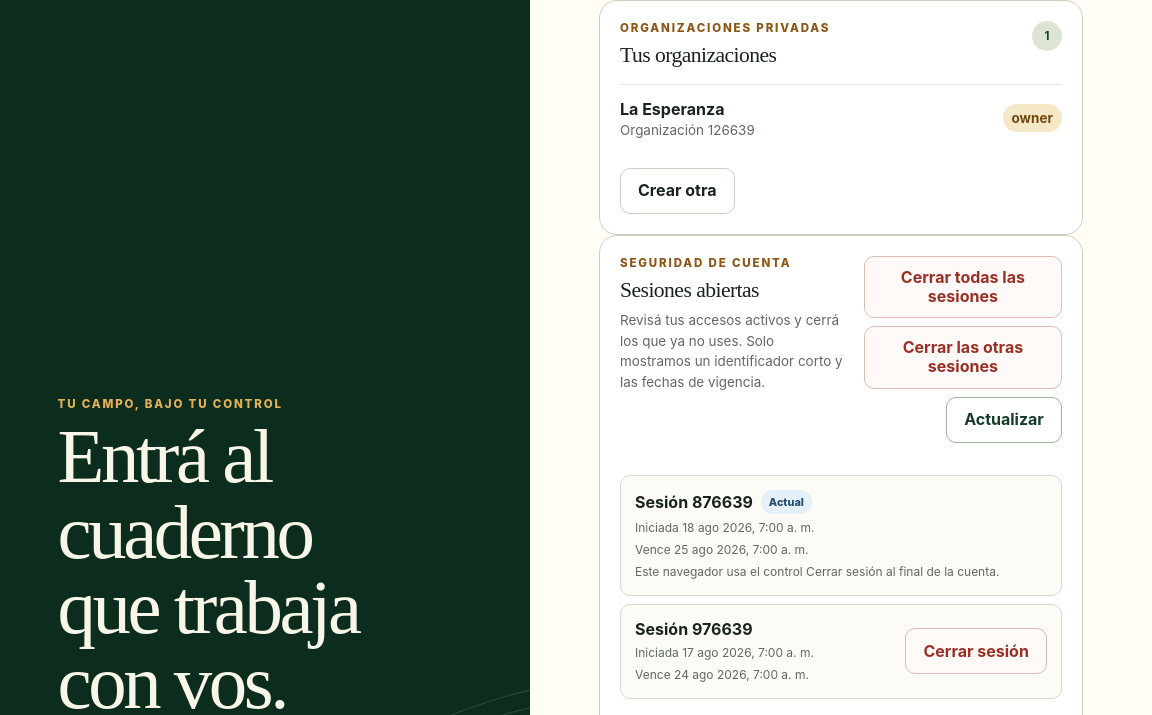
Test case: IdentityHub own session management › closes every other session through the server-side command and refreshes the inventory
(page scrolled)
Click the button "Cerrar las otras sesiones". click: coordinates (963, 357)
box: [864, 326, 1062, 389]
(page scrolled)
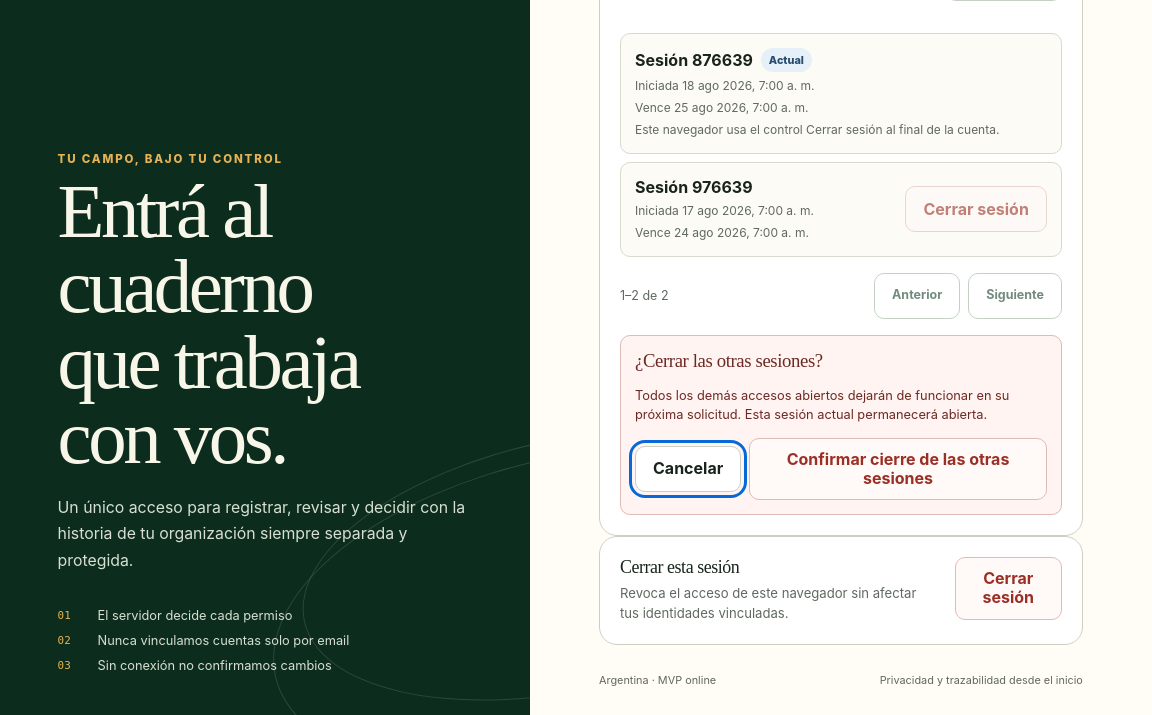
Click the button "Confirmar cierre de las otras sesiones". click: coordinates (898, 469)
box: [749, 438, 1047, 500]
(page scrolled)
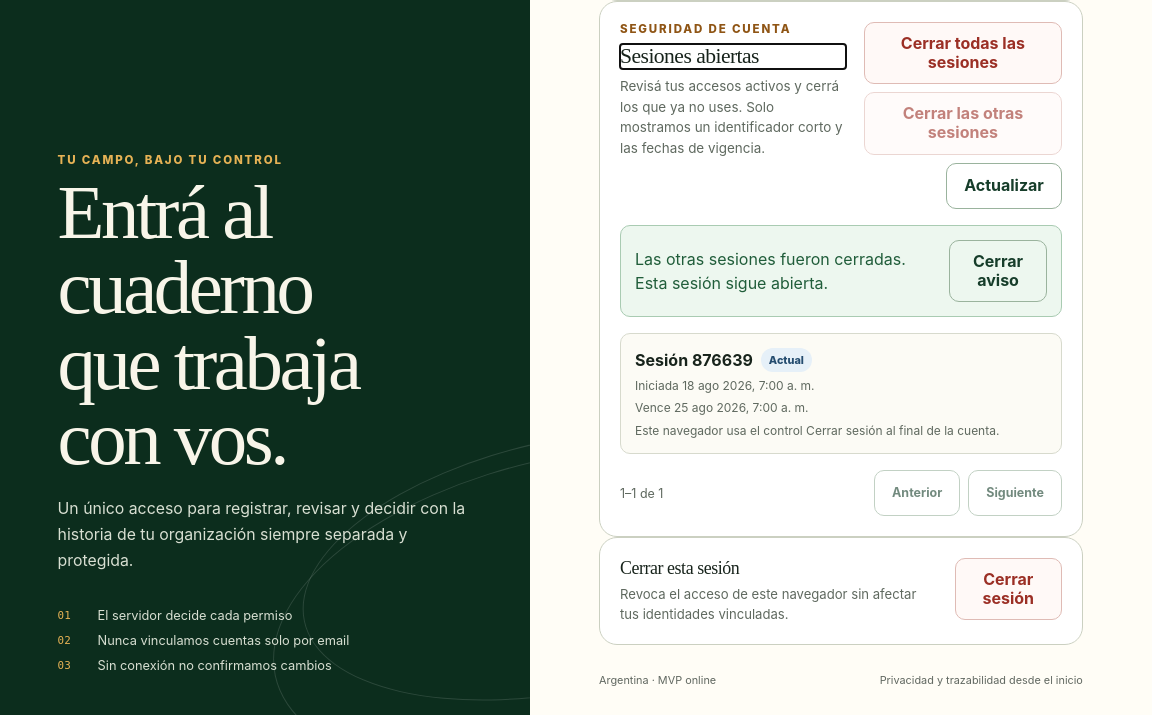
Now the button "Cerrar las otras sesiones" is disabled, box [864, 92, 1062, 155]
Now the text "Las otras sesiones fueron cerradas. Esta sesión sigue abierta." is shown, box [635, 247, 937, 295]
